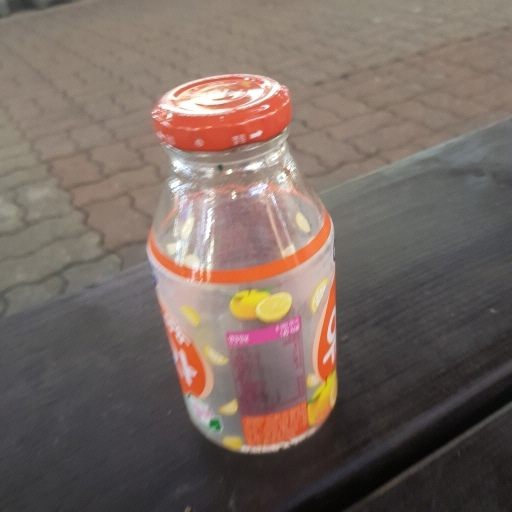Glass_4: (147, 69, 345, 457)
